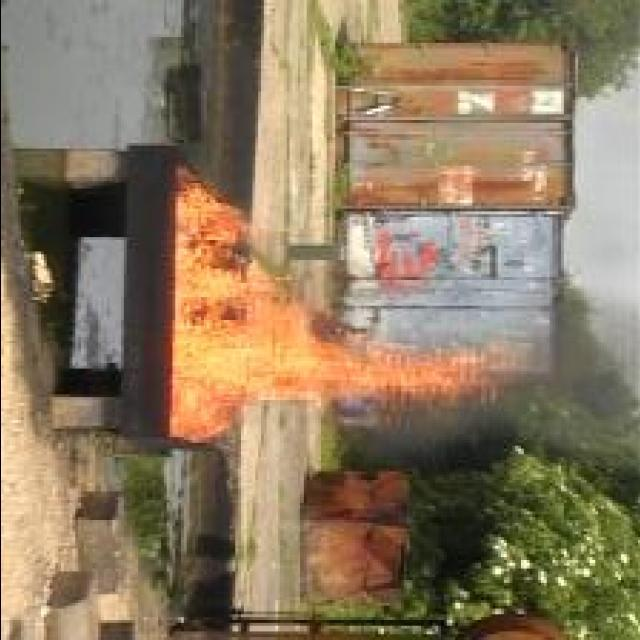Fire: (165, 166, 526, 446)
